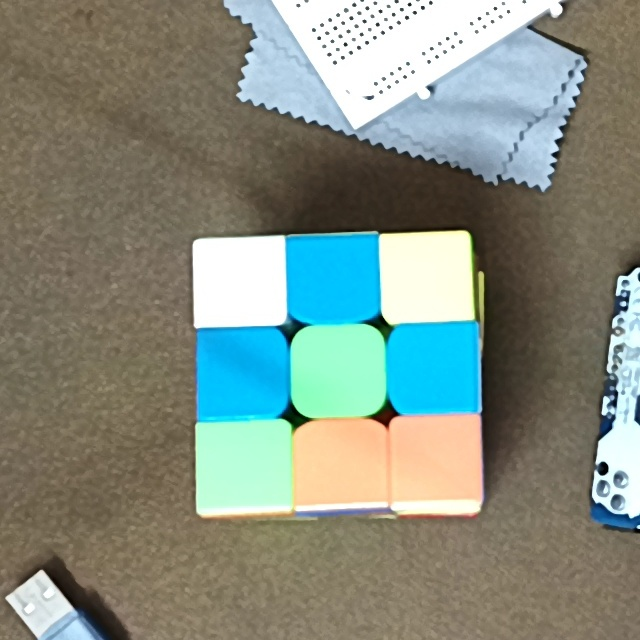tile: (202, 428, 286, 504), (199, 334, 279, 413), (395, 423, 480, 495), (387, 242, 468, 315), (199, 243, 279, 316), (293, 242, 376, 312), (399, 331, 473, 406), (302, 334, 377, 407), (304, 429, 380, 498)
